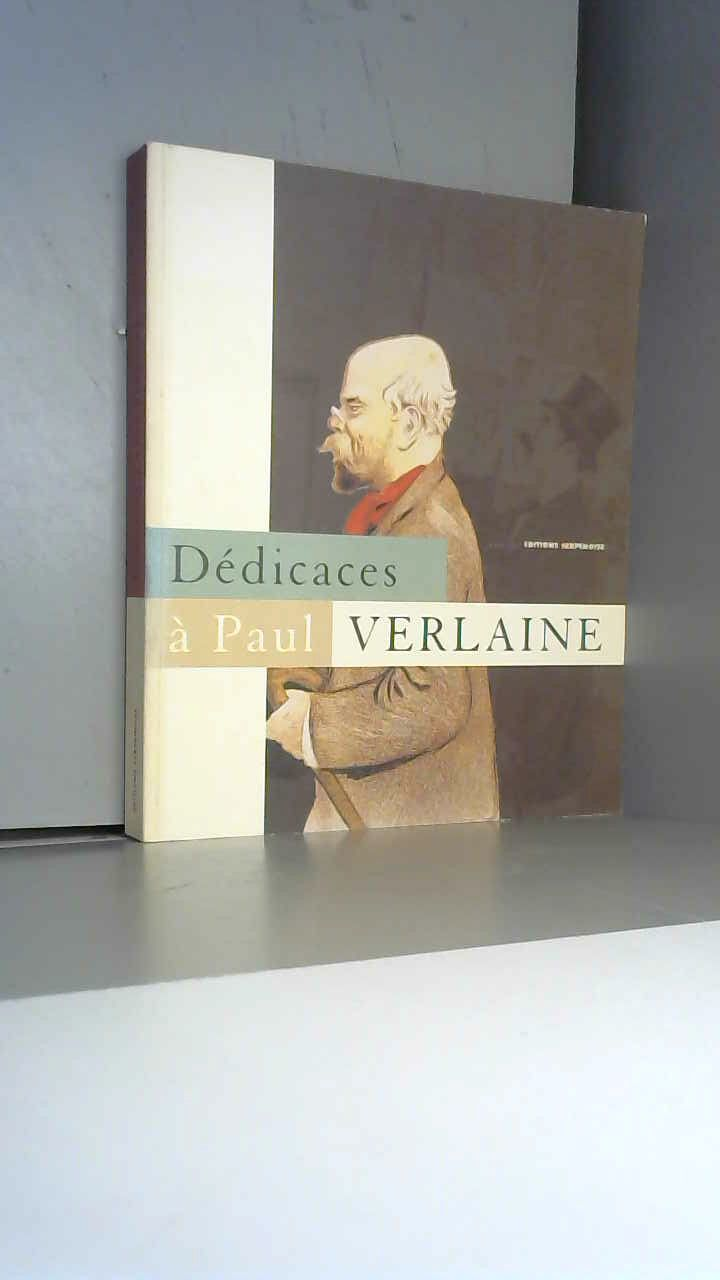book: (90, 120, 719, 944)
